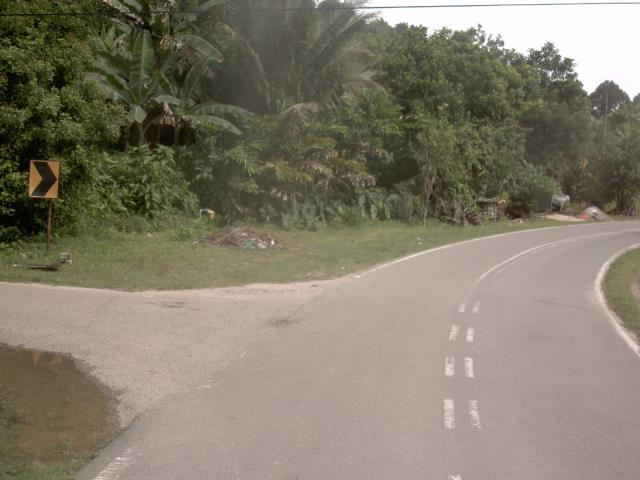traffic_sign: (21, 153, 67, 205)
